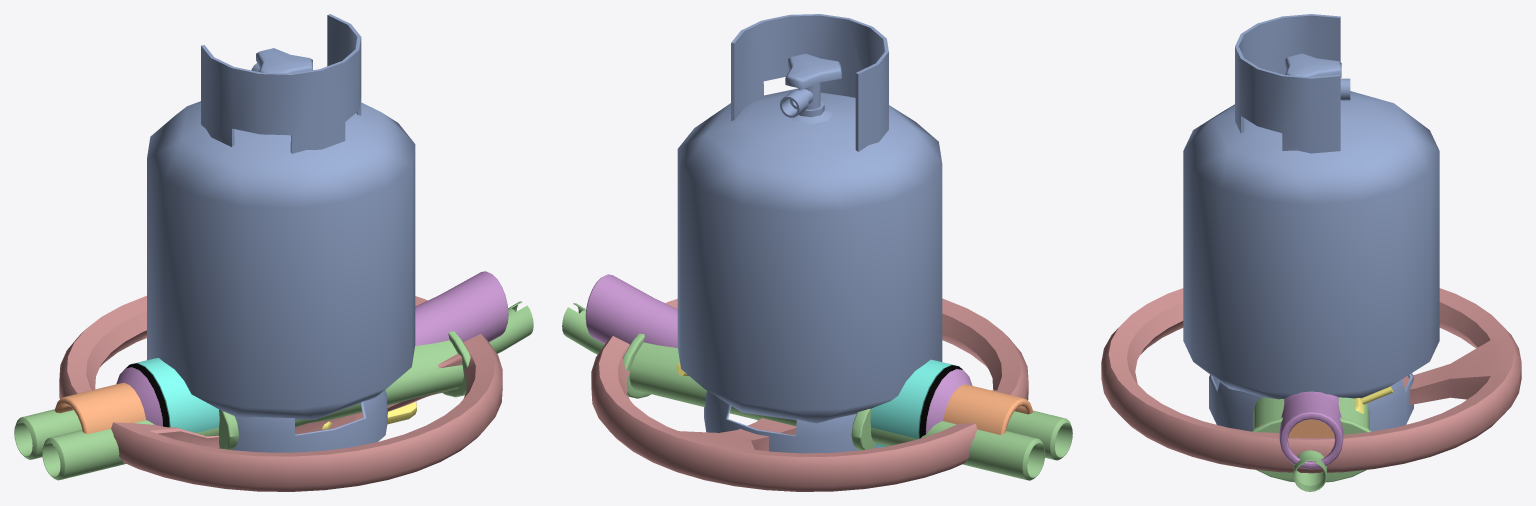
The model's file is LPGBottle01Carparts01.fbx.
The picture shows the model from 3 angles, left to right: view 1: azimuth 30°, elevation 25°; view 2: azimuth 150°, elevation 25°; view 3: azimuth 270°, elevation 25°; orthographic projection. The views are drawn at different scales.
Parts seen in each view (by area): view 1: LPG_Body, SteeringWheel_Body, ExhaustsPipe_Body1, ExhaustsPipe_Body; view 2: LPG_Body, SteeringWheel_Body, ExhaustsPipe_Body1, ExhaustsPipe_Body; view 3: LPG_Body, SteeringWheel_Body, ExhaustsPipe_Body, ExhaustsPipe_Body1.
Part boxes in pixels (left/top/right/bottom): LPG_Body: left=147, top=14, right=415, bottom=452; SteeringWheel_Body: left=59, top=295, right=502, bottom=491; ExhaustsPipe_Body1: left=54, top=271, right=508, bottom=433; ExhaustsPipe_Body: left=14, top=301, right=533, bottom=480; LPG_Body: left=677, top=14, right=942, bottom=453; SteeringWheel_Body: left=591, top=298, right=1028, bottom=491; ExhaustsPipe_Body1: left=585, top=274, right=1033, bottom=447; ExhaustsPipe_Body: left=562, top=303, right=1072, bottom=480; LPG_Body: left=1183, top=14, right=1439, bottom=431; SteeringWheel_Body: left=1101, top=288, right=1521, bottom=473; ExhaustsPipe_Body: left=1252, top=397, right=1371, bottom=491; ExhaustsPipe_Body1: left=1279, top=391, right=1343, bottom=469.
Size of the model in its own units: 74.7 by 56.55 by 58.97.
